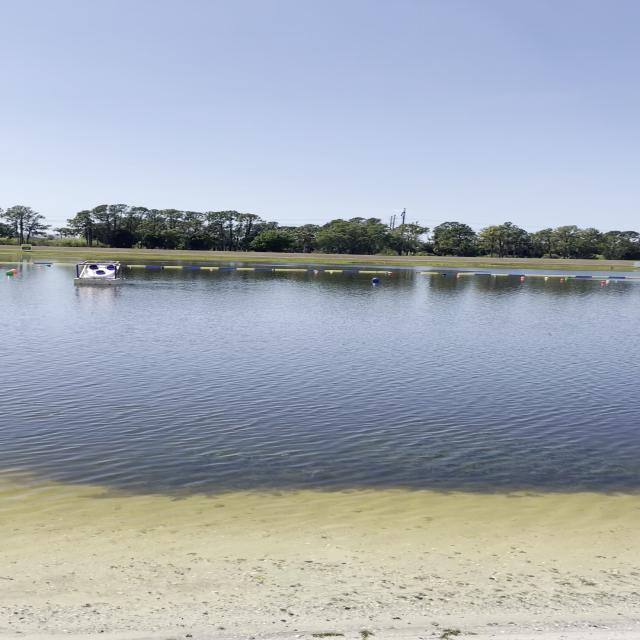buoy: (12, 266, 20, 274), (6, 270, 16, 276), (600, 280, 606, 284), (564, 276, 570, 280), (614, 279, 620, 283), (493, 274, 499, 278), (560, 278, 564, 281), (389, 272, 392, 276)
